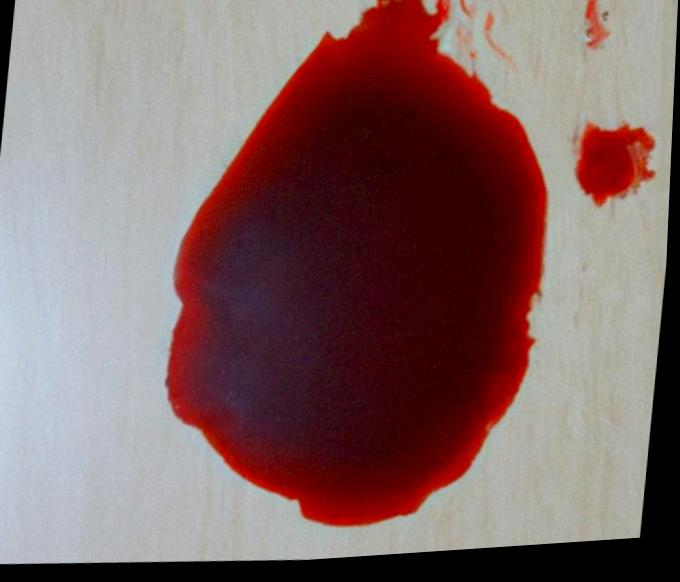Fire: (168, 0, 551, 534), (575, 131, 658, 217), (584, 0, 612, 58)
